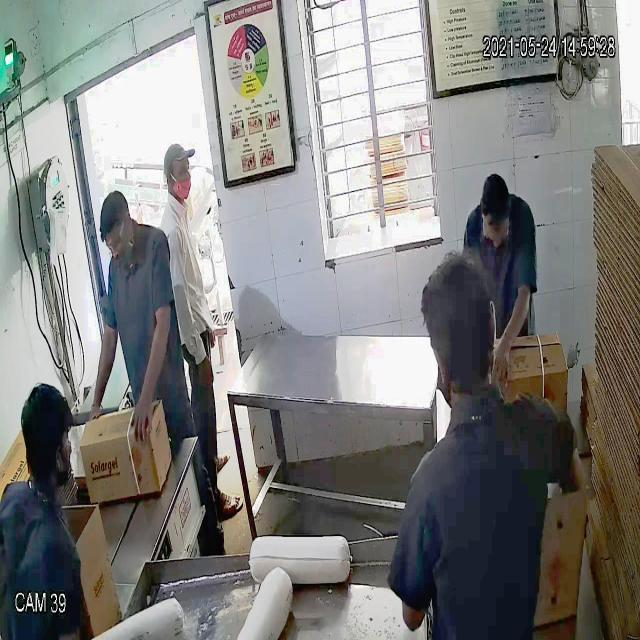glasses: (99, 228, 127, 258)
